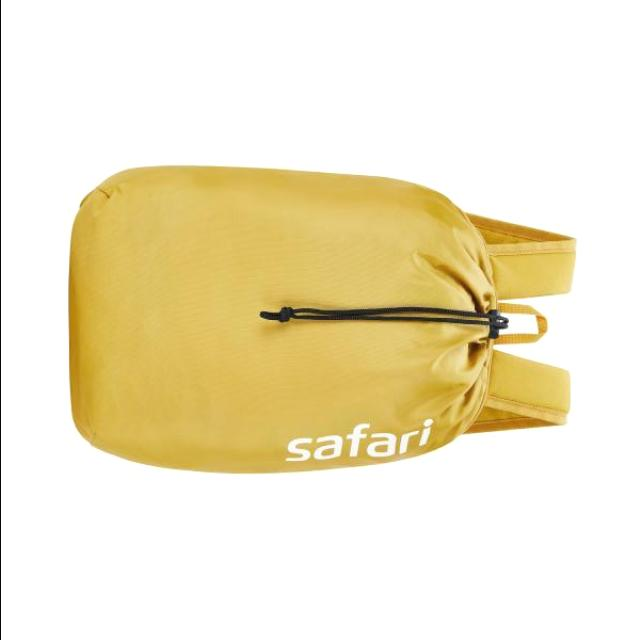backpack: (68, 166, 578, 476)
